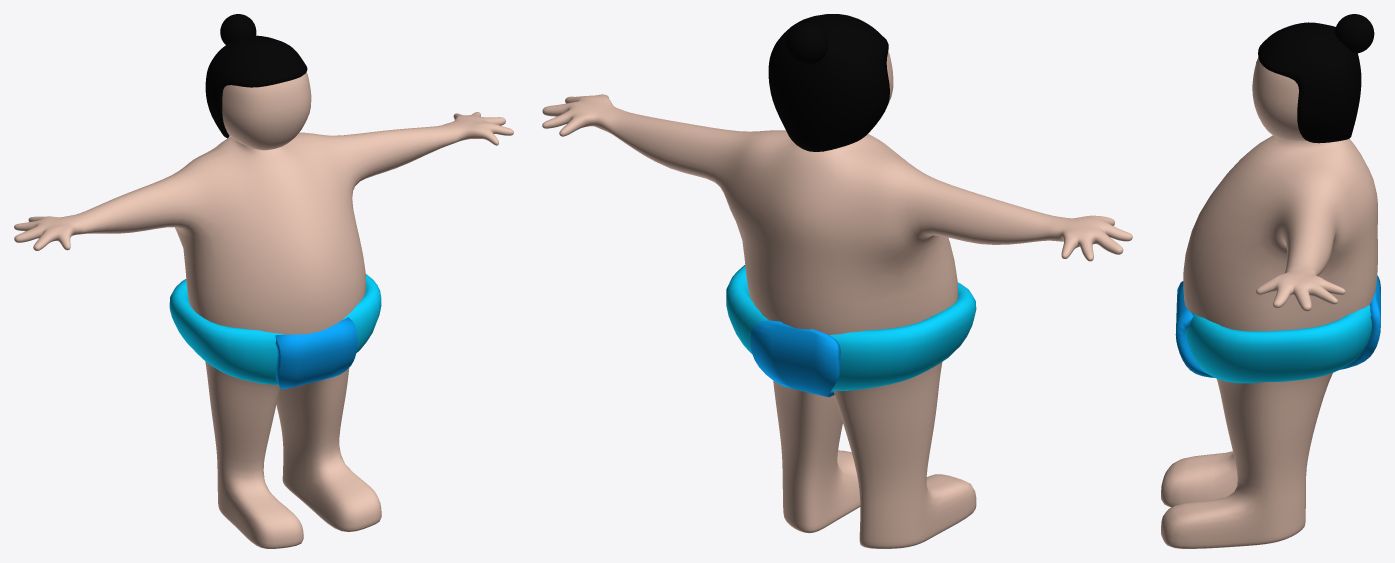
File: sumo.fbx
The picture shows the model from 3 angles, left to right: view 1: azimuth 30°, elevation 25°; view 2: azimuth 150°, elevation 25°; view 3: azimuth 270°, elevation 25°; orthographic projection. The views are drawn at different scales.
Visible parts, largest first — view 1: Cube.002, Cube.004, Cube.001, Cube.006, Cube.005, Sphere; view 2: Cube.002, Cube.006, Cube.004, Cube.005, Sphere; view 3: Cube.002, Cube.004, Cube.006, Cube.001, Cube.005, Sphere.
Boxes of the visible parts, x1,y1,x2,y2 form: Cube.002: (14, 112, 513, 548); Cube.004: (169, 274, 381, 385); Cube.001: (222, 72, 311, 150); Cube.006: (205, 35, 307, 138); Cube.005: (275, 317, 357, 389); Sphere: (220, 14, 256, 44); Cube.002: (542, 94, 1132, 548); Cube.006: (768, 14, 889, 151); Cube.004: (726, 265, 976, 390); Cube.005: (750, 320, 840, 397); Sphere: (785, 22, 828, 64); Cube.002: (1161, 61, 1377, 548); Cube.004: (1185, 305, 1371, 383); Cube.006: (1258, 22, 1361, 143); Cube.001: (1252, 57, 1306, 141); Cube.005: (1175, 275, 1380, 377); Sphere: (1335, 14, 1374, 53).
Size of the model in its own units: 285 by 256 by 101.
